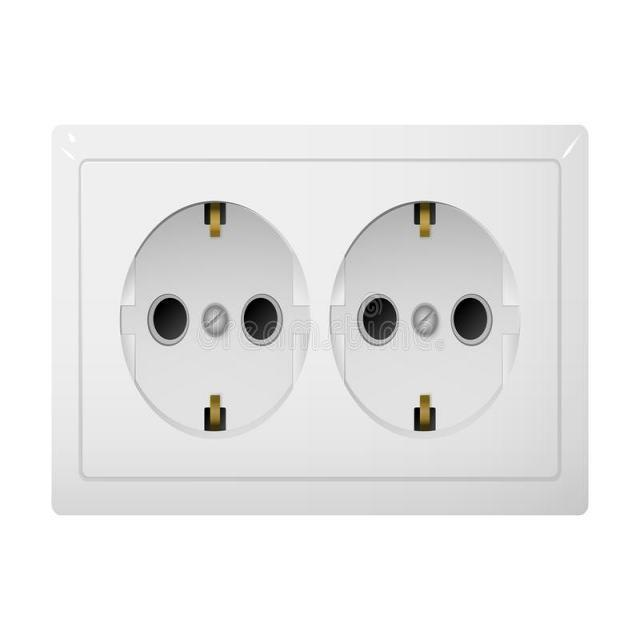typeb: (21, 106, 624, 553)
